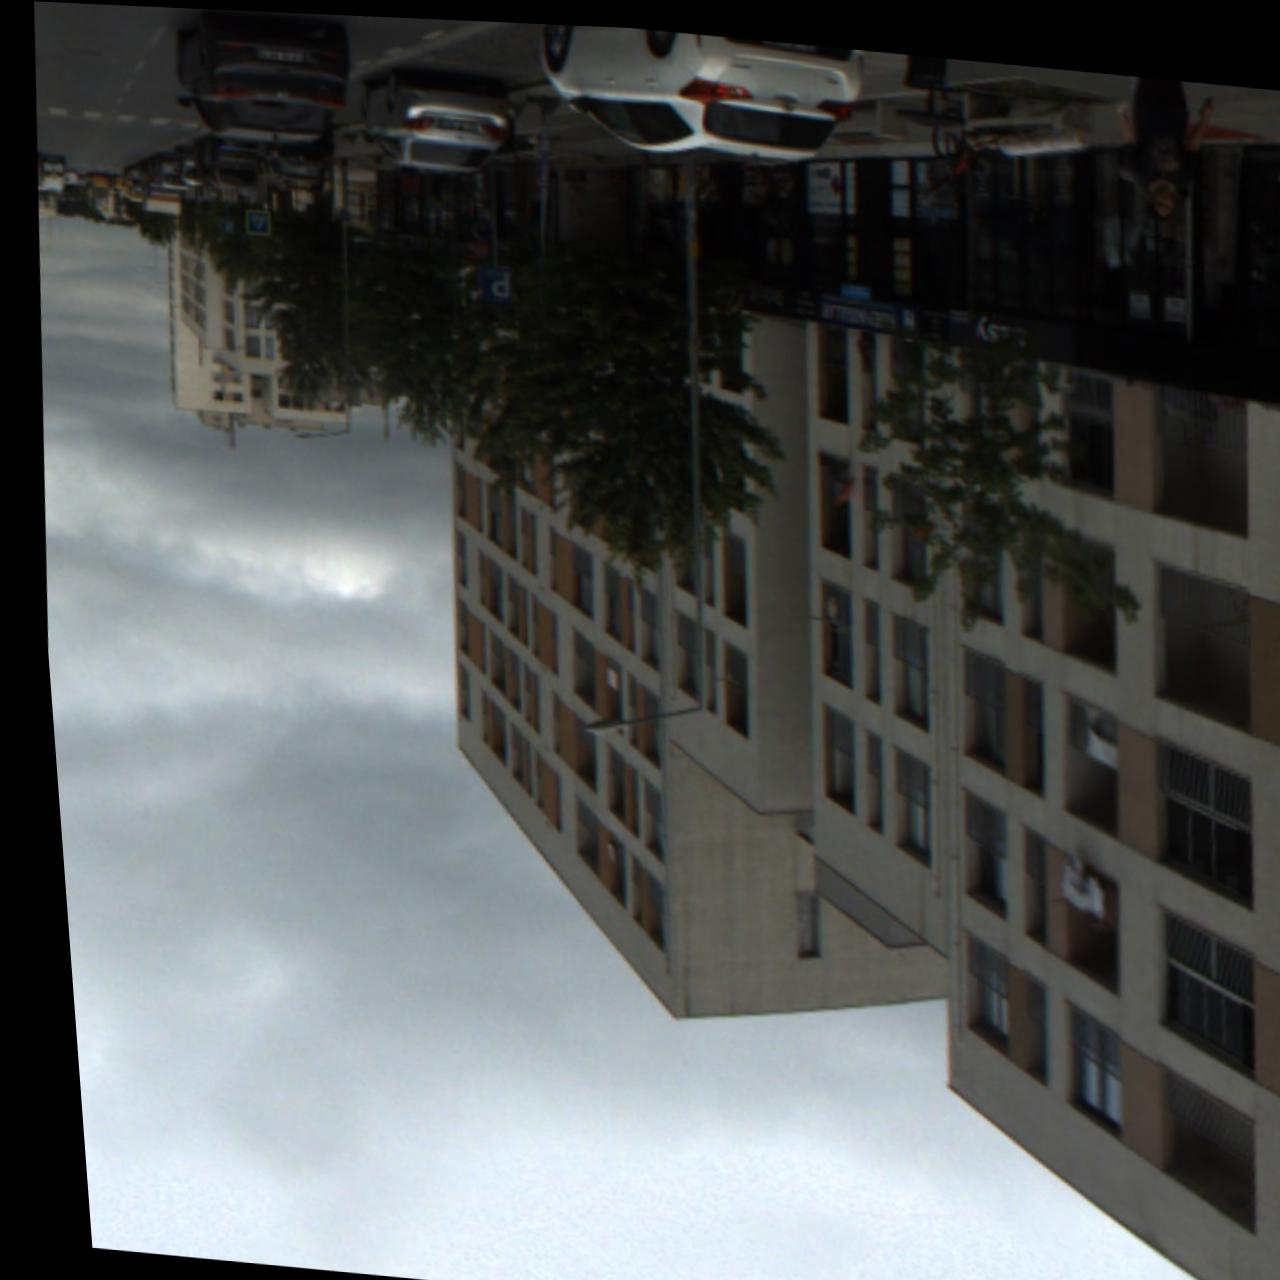SignStore: (944, 300, 1070, 352), (810, 282, 915, 326)
